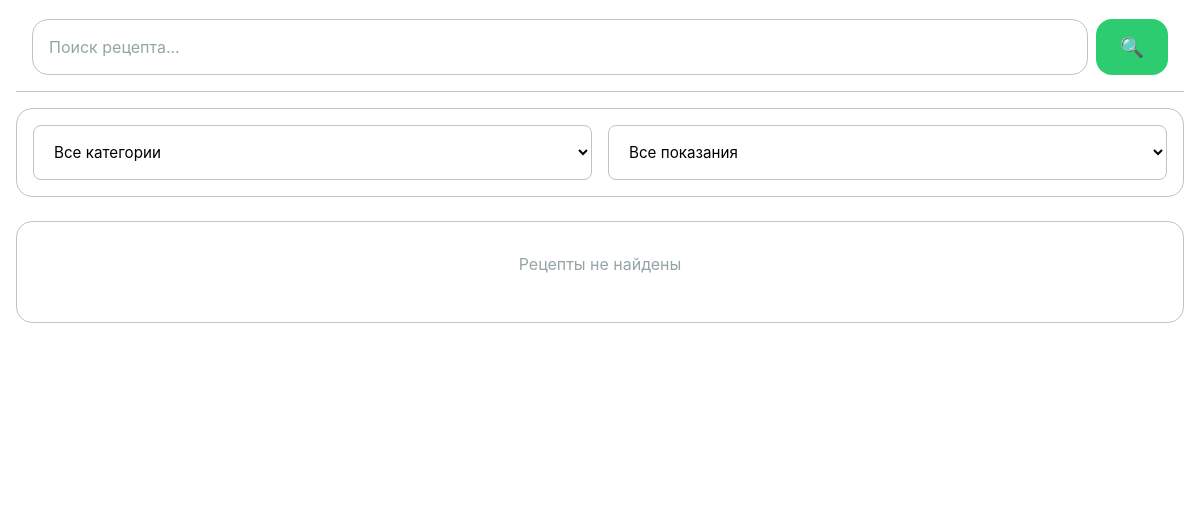
Test: RecipesPage › searches recipes and shows results on success
Type "лопух" into the field with placeholder "Поиск рецепта...".
click(560, 47); type("лопух")  # box [32, 19, 1088, 75]
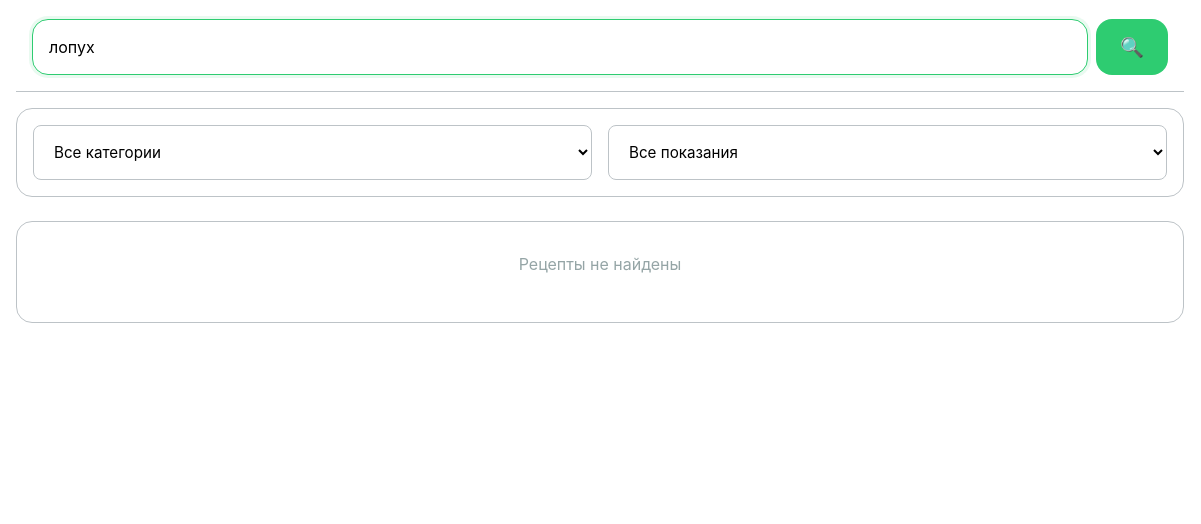
Click the button "🔍".
click(1132, 47)  # box [1096, 19, 1168, 75]
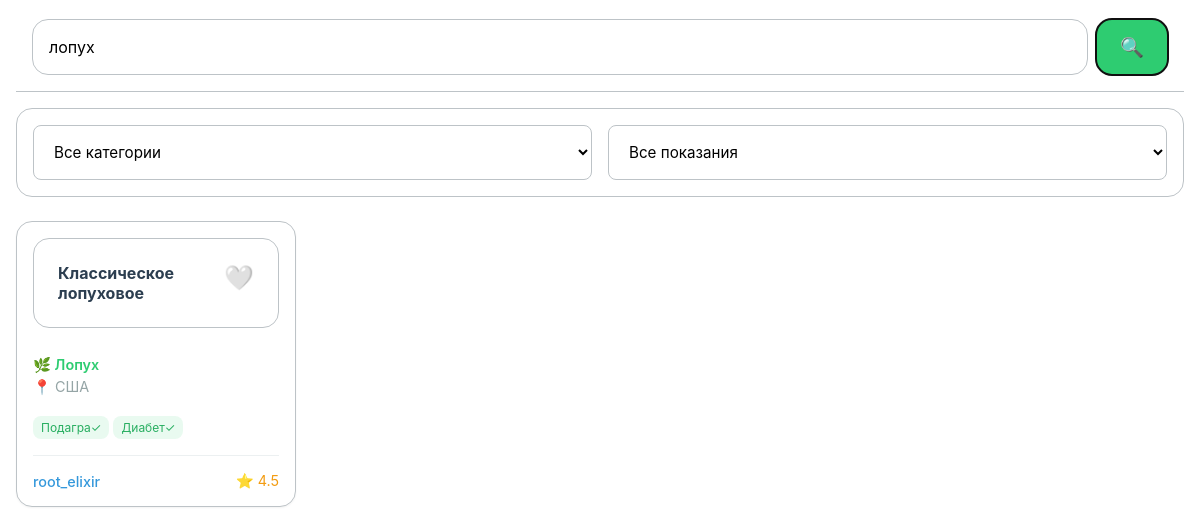
Now the heading "Классическое лопуховое" is shown, box [58, 263, 174, 303]
